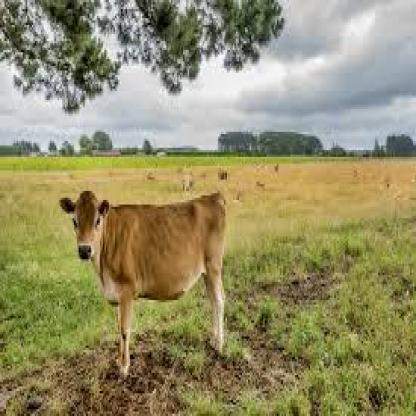cow: (60, 189, 228, 387)
